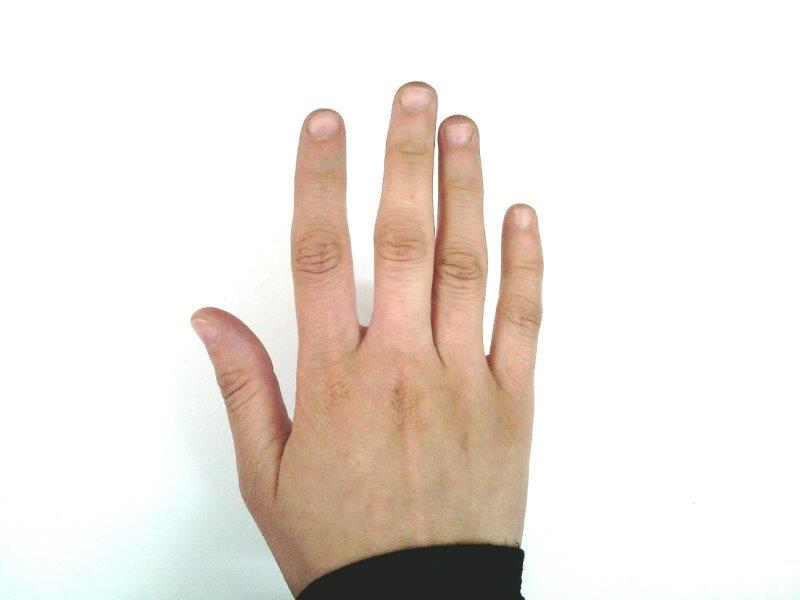hand: (190, 81, 544, 545)
